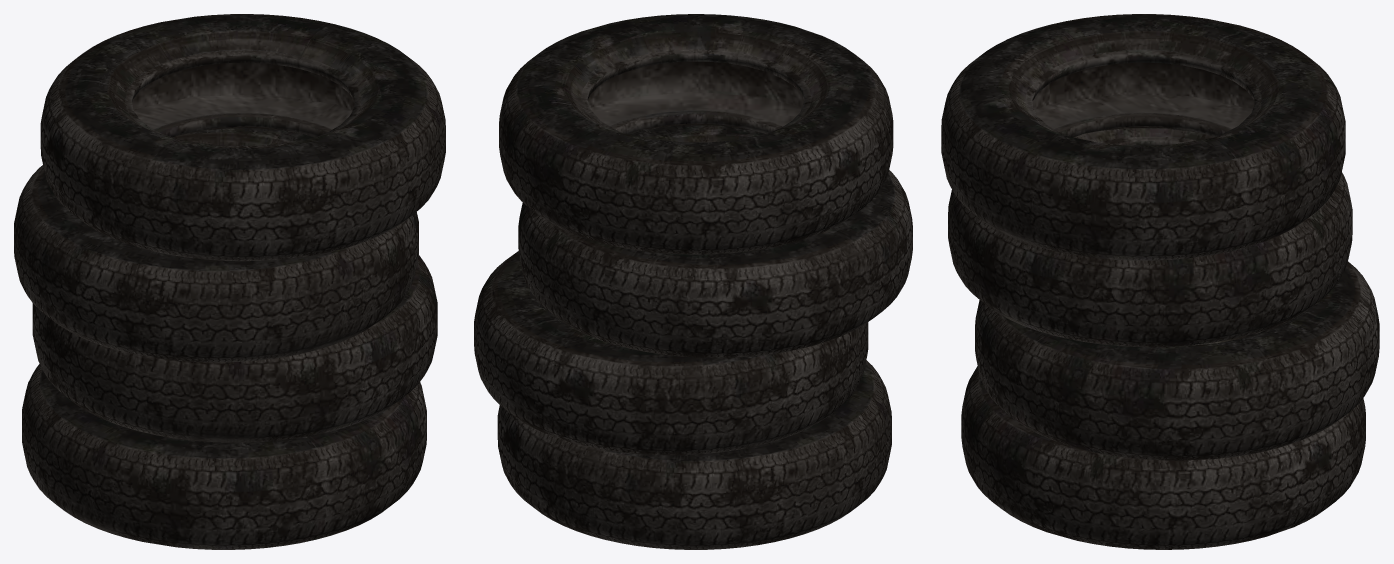
Rendered from tyre_stack.glb.
3 renders of one model, left to right at view 1: azimuth 30°, elevation 25°; view 2: azimuth 150°, elevation 25°; view 3: azimuth 270°, elevation 25°, orthographic. The views are drawn at different scales.
Visible parts, largest first — view 1: tyre_4, tyre_3, tyre_1, tyre_2; view 2: tyre_4, tyre_3, tyre_2, tyre_1; view 3: tyre_4, tyre_2, tyre_3, tyre_1.
Part boxes in pixels (x1,y1,x2,y2): tyre_4: [40, 14, 445, 261]; tyre_3: [14, 127, 418, 362]; tyre_1: [22, 364, 426, 549]; tyre_2: [32, 255, 437, 442]; tyre_4: [499, 14, 893, 254]; tyre_3: [518, 125, 912, 357]; tyre_2: [474, 251, 868, 455]; tyre_1: [497, 360, 891, 549]; tyre_4: [941, 14, 1345, 260]; tyre_2: [975, 261, 1379, 460]; tyre_3: [948, 128, 1352, 347]; tyre_1: [961, 336, 1365, 549].
Bounding box in the file's own units: 0.6549 × 0.6451 × 0.6498.
Materials: 1 (1 with a texture image).
